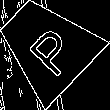P_NW: (15, 15, 77, 77)
